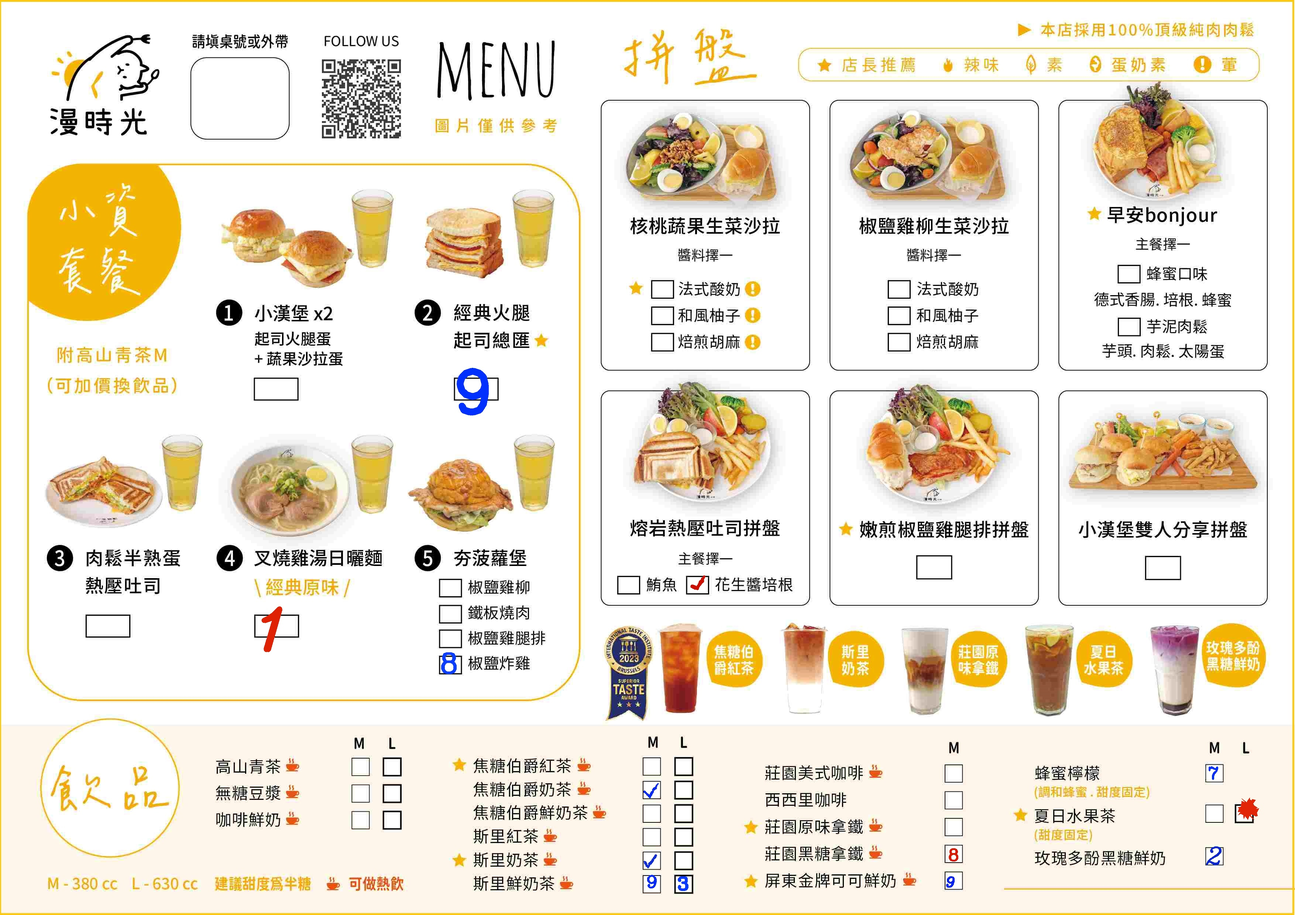marked_circle: (1237, 804, 1254, 822)
marked_number_1: (254, 616, 297, 635)
marked_number_2: (1205, 847, 1222, 865)
marked_number_3: (675, 874, 692, 891)
marked_number_7: (1205, 765, 1222, 783)
marked_number_8: (439, 655, 461, 672), (945, 844, 962, 862)
marked_number_9: (454, 379, 498, 398), (642, 873, 659, 891), (945, 870, 962, 888)
marked_tick: (687, 574, 709, 591), (643, 781, 660, 799), (642, 852, 659, 869)
